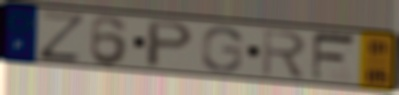6: (89, 13, 130, 68)
F: (309, 31, 361, 83)
G: (199, 25, 245, 74)
P: (144, 19, 197, 69)
R: (260, 27, 309, 80)
Z: (37, 9, 88, 64)
